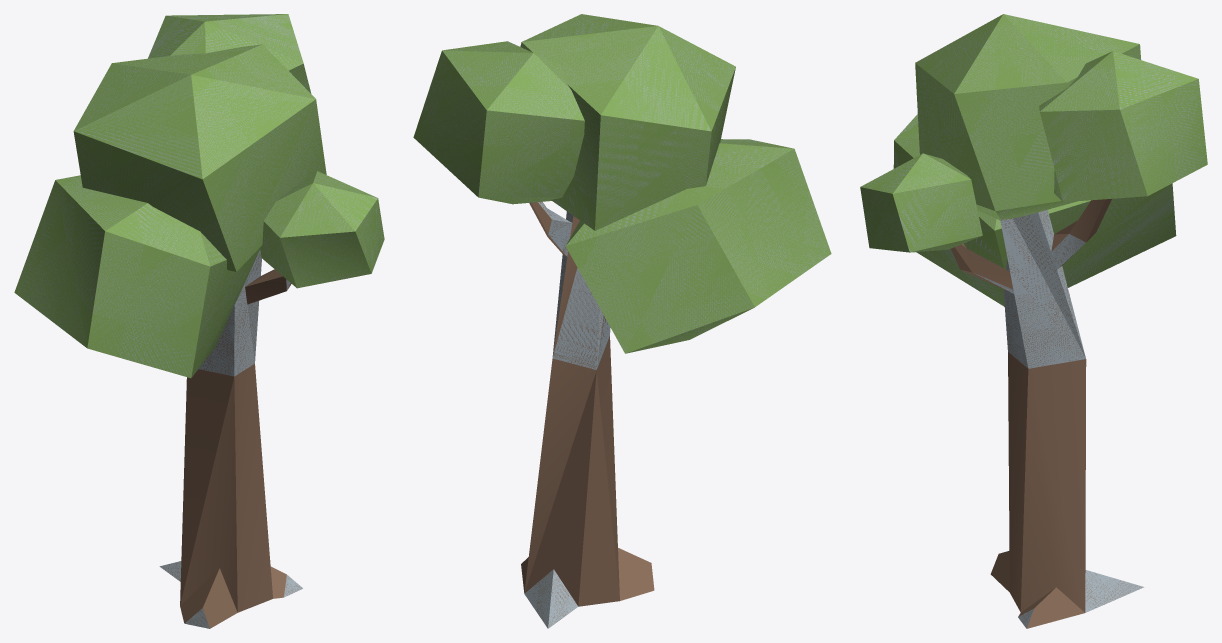
The model's file is Tree_Gum_03.fbx.
3 views of the same model, side by side, from view 1: azimuth 30°, elevation 25°; view 2: azimuth 150°, elevation 25°; view 3: azimuth 270°, elevation 25° (orthographic).
Visible parts, largest first — view 1: Model; view 2: Model; view 3: Model.
Part boxes in pixels (x1,y1,x2,y2): Model: [14, 14, 384, 628]; Model: [413, 14, 831, 628]; Model: [860, 14, 1207, 628].
Bounding box in the file's own units: 392 × 675 × 384.
